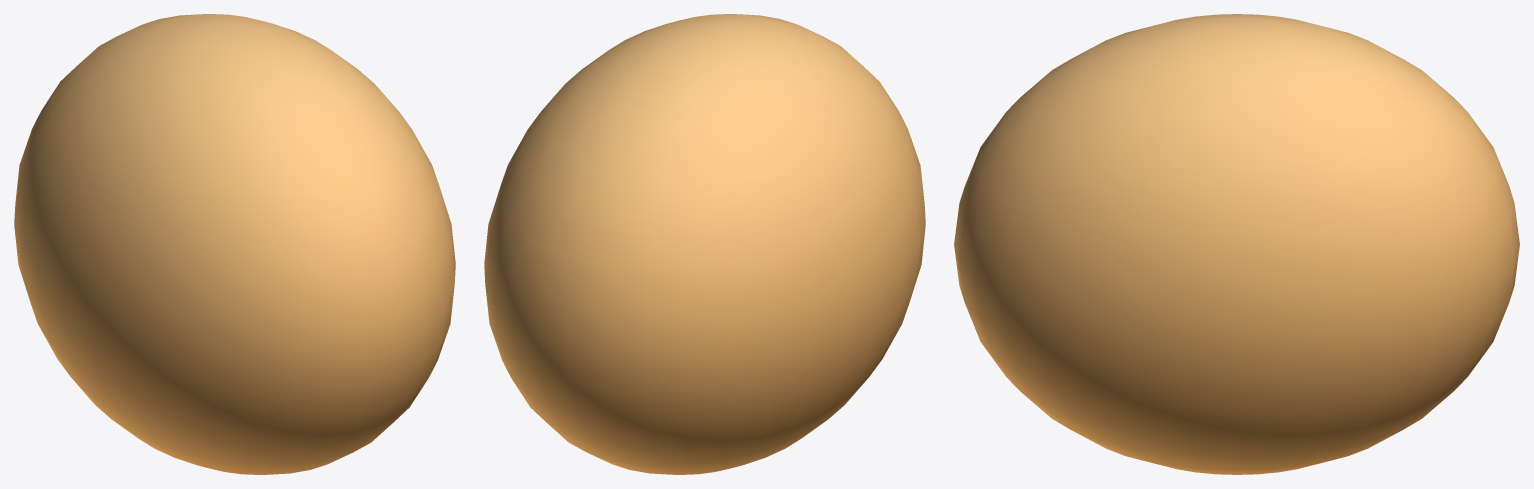
File: ChickenSphere.fbx
3 views of the same model, side by side, from view 1: azimuth 30°, elevation 25°; view 2: azimuth 150°, elevation 25°; view 3: azimuth 270°, elevation 25° (orthographic). The views are drawn at different scales.
Parts seen in each view (by area): view 1: Chicken.001; view 2: Chicken.001; view 3: Chicken.001.
Boxes of the visible parts, box(x1,y1,x2,y2) form: Chicken.001: box(14, 14, 455, 474); Chicken.001: box(484, 14, 925, 474); Chicken.001: box(954, 14, 1519, 474).
Bounding box in the file's own units: 148 × 166 × 200.
